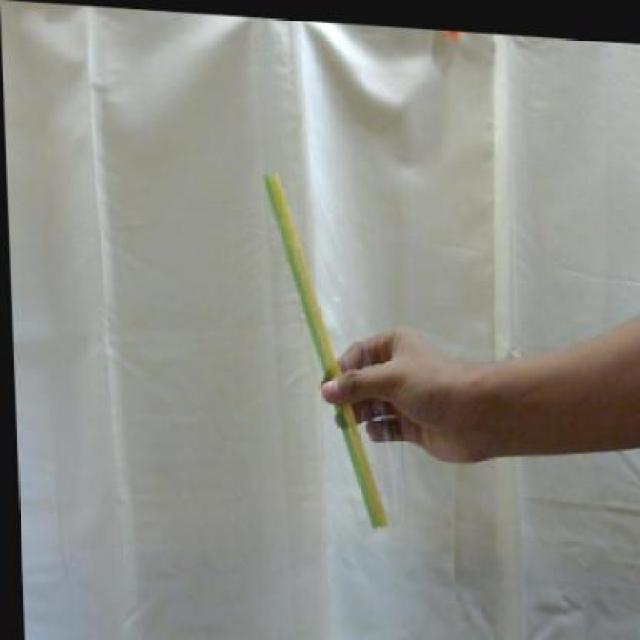Plastic: (262, 165, 393, 540)
